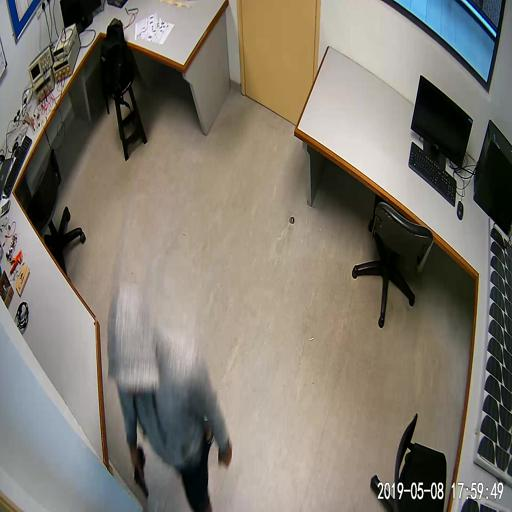pistol: (133, 444, 149, 498)
